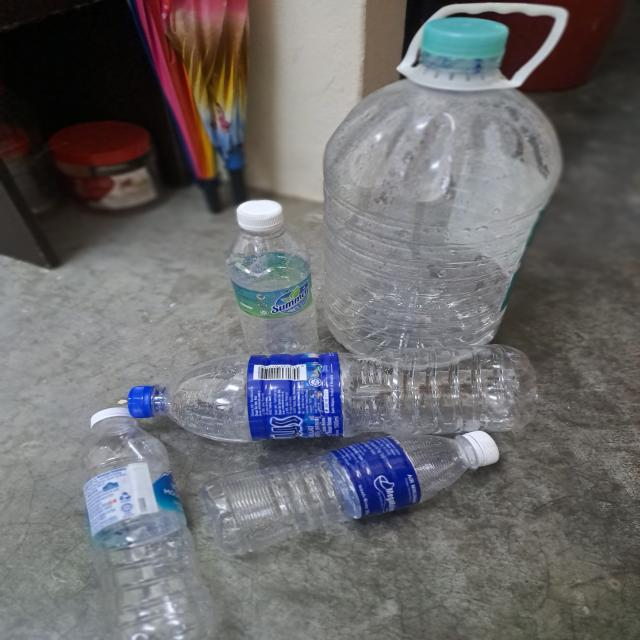plastic bottle: (327, 79, 568, 362), (159, 344, 547, 442), (206, 430, 466, 552), (75, 424, 211, 640), (227, 232, 324, 372)
plastic bottle cap: (419, 15, 506, 78), (238, 198, 282, 236), (462, 432, 504, 469), (122, 383, 160, 418), (88, 407, 131, 425)
